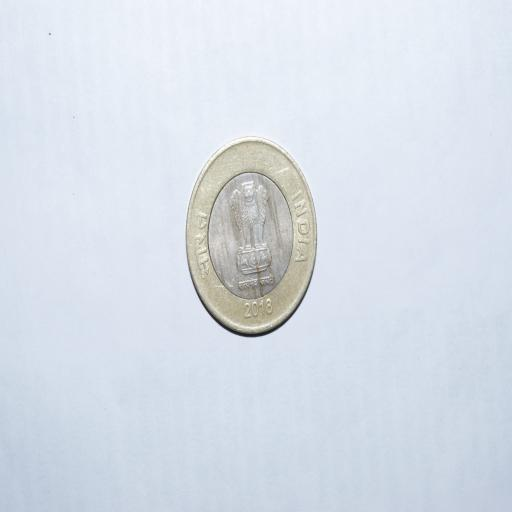rupee10: (182, 134, 319, 337)
